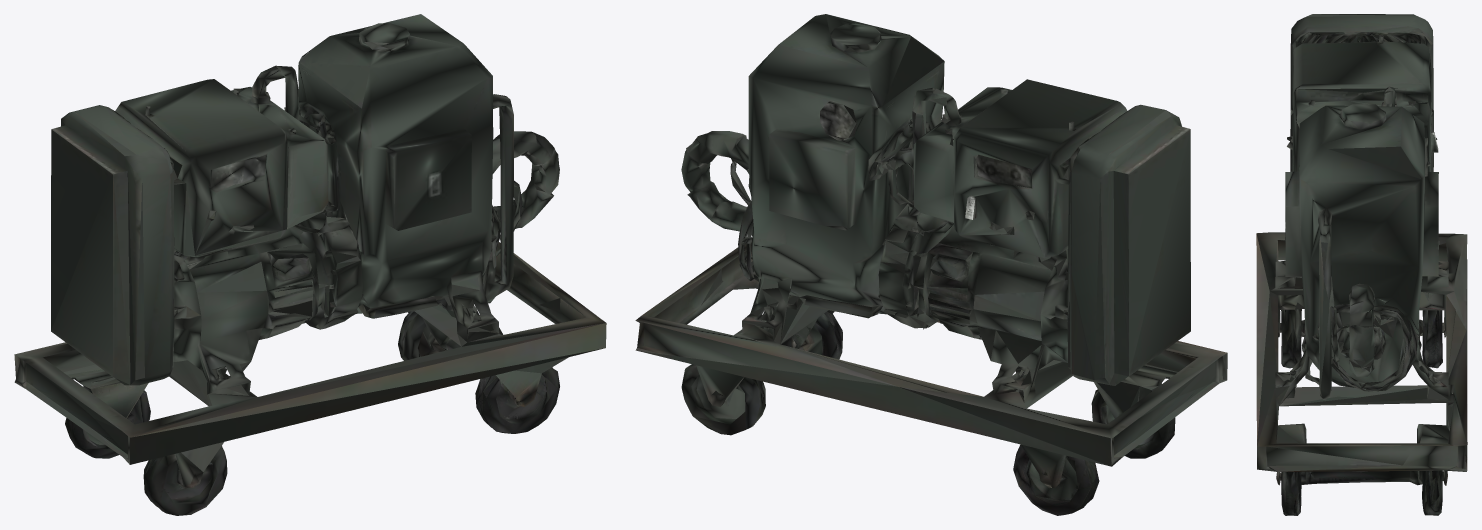
Rendered from generator.glb.
3 views of the same model, side by side, from view 1: azimuth 30°, elevation 25°; view 2: azimuth 150°, elevation 25°; view 3: azimuth 270°, elevation 25° (orthographic). The views are drawn at different scales.
Parts seen in each view (by area): view 1: generator; view 2: generator; view 3: generator.
Boxes of the visible parts, x1=… form: generator: x1=14, y1=14, x2=606, y2=515; generator: x1=635, y1=14, x2=1227, y2=515; generator: x1=1256, y1=14, x2=1467, y2=515.
Size of the model in its own units: 1.6 by 1.24 by 0.6596.
1 material, 1 textured.
